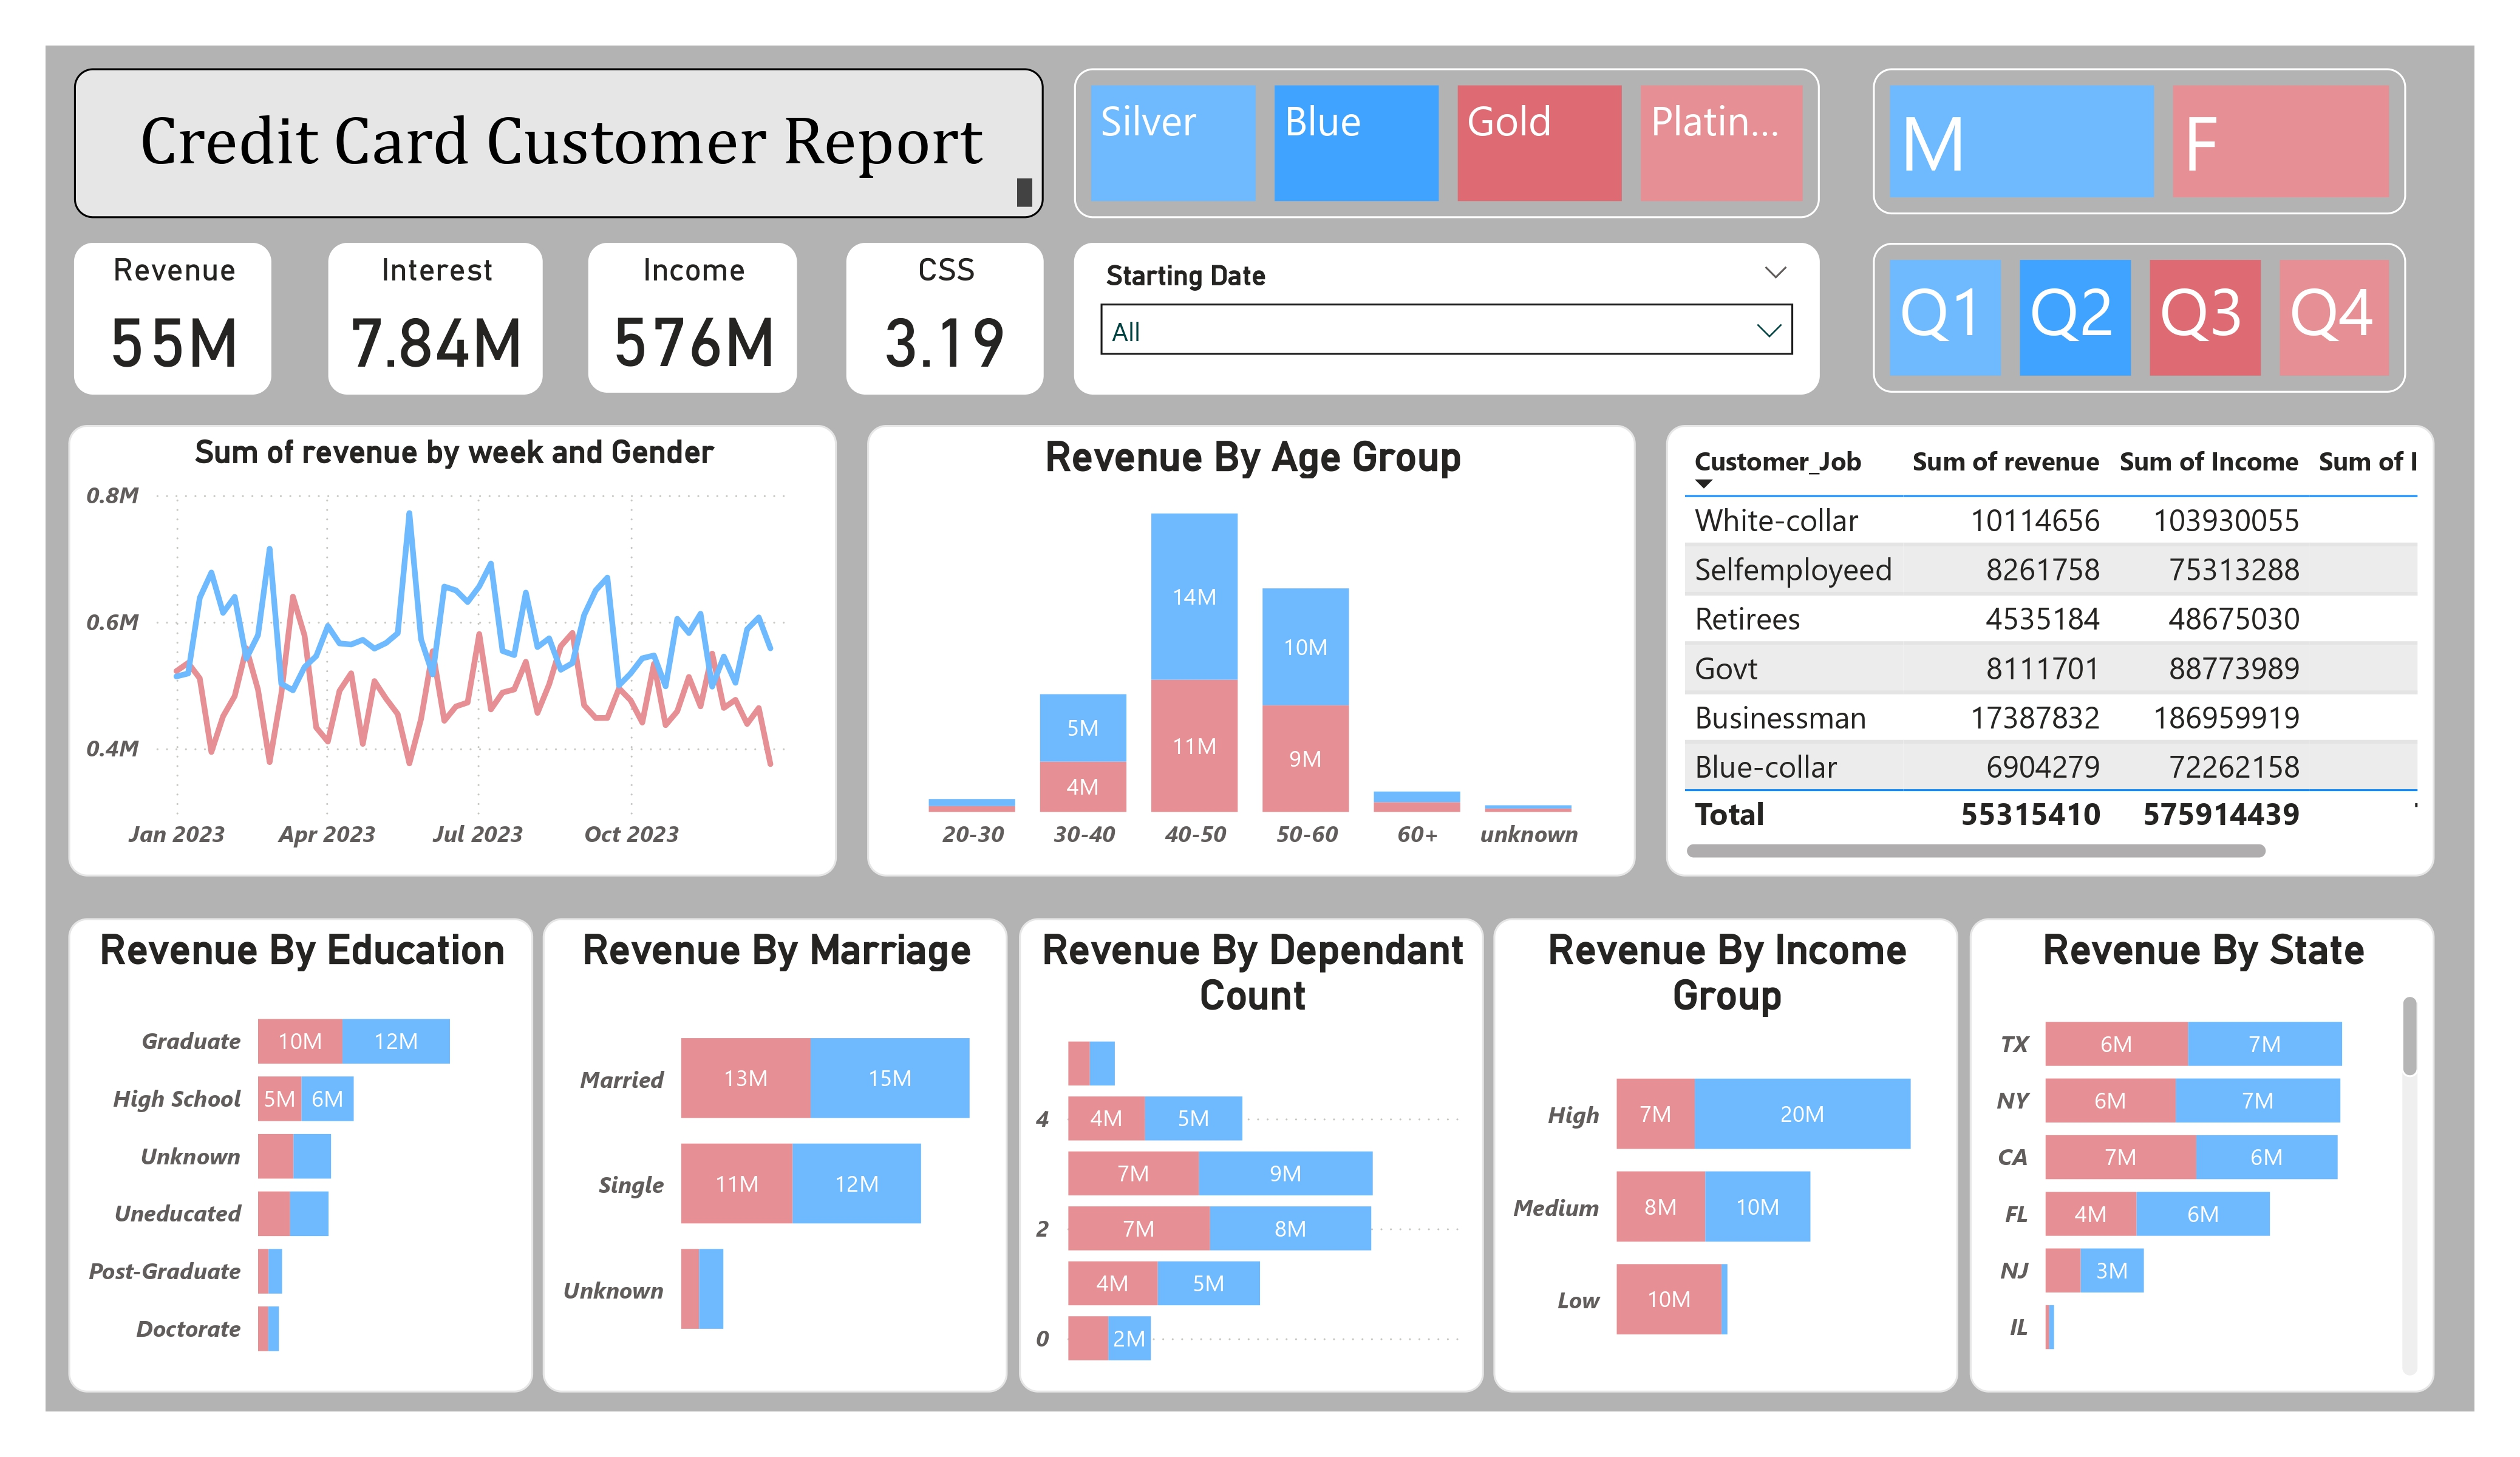

What the dashboard file says about the page in this screenshot:
{"tool":"powerbi","page":{"name":"CC Customer","canvas":[1280,720],"ordinal":2},"visuals":[{"type":"barChart","title":"Revenue By Income Group","fields":{"Y":["Sum(credit_card.revenue)"],"Category":["customer.IncomeGroup"],"Series":["customer.Gender"]},"box":[763.4,459.6,245,250.5],"z":0},{"type":"tableEx","fields":{"Values":["customer.Customer_Job","Sum(credit_card.revenue)","Sum(customer.Income)","Sum(credit_card.Interest_Earned)"]},"box":[854,199.8,405,238.5],"z":1000},{"type":"card","title":"Revenue","fields":{"Values":["Sum(credit_card.revenue)"]},"box":[14.7,103.9,103.9,79.9],"z":2000},{"type":"card","title":"Interest","fields":{"Values":["Sum(credit_card.Interest_Earned)"]},"box":[149.2,103.9,113.2,79.9],"z":3000},{"type":"card","title":"Income","fields":{"Values":["Sum(customer.Income)"]},"box":[286.4,103.9,109.2,78.6],"z":4000},{"type":"card","title":"CSS","fields":{"Values":["Avg(customer.Cust_Satisfaction_Score)"]},"box":[422.3,103.9,103.9,79.9],"z":5000},{"type":"slicer","fields":{"Values":["credit_card.Week_Start_Date"]},"box":[542.2,103.9,393,79.9],"z":6000},{"type":"treemap","fields":{"Group":["credit_card.Qtr"],"Values":["Count(credit_card.revenue)"]},"box":[963.2,103.9,281.1,78.6],"z":7000},{"type":"treemap","fields":{"Values":["Sum(credit_card.revenue)"],"Group":["customer.Gender"]},"box":[965.1,11.8,281.1,77.3],"z":8000},{"type":"treemap","fields":{"Values":["Avg(credit_card.Client_Num)"],"Group":["credit_card.Card_Category"]},"box":[542.2,12,393,78.6],"z":9000},{"type":"textbox","title":"Credit Card Customer Report","box":[14.7,12,511.6,78.6],"z":10000},{"type":"lineChart","title":"Sum of revenue by week and Gender","fields":{"Y":["Sum(credit_card.revenue)"],"Series":["customer.Gender"],"Category":["credit_card.Week_Start_Date.Variation.Date Hierarchy.Year","credit_card.Week_Start_Date.Variation.Date Hierarchy.Month","credit_card.Week_Start_Date.Variation.Date Hierarchy.Day"]},"box":[12,199.8,405,238.5],"z":10001},{"type":"barChart","title":"Revenue By Marriage","fields":{"Y":["Sum(credit_card.revenue)"],"Category":["customer.Marital_Status"],"Series":["customer.Gender"]},"box":[262.4,459.6,245,250.5],"z":10002},{"type":"barChart","title":"Revenue By Education","fields":{"Y":["Sum(credit_card.revenue)"],"Category":["customer.Education_Level"],"Series":["customer.Gender"]},"box":[12,459.6,245,250.5],"z":10003},{"type":"barChart","title":"Revenue By Dependant Count","fields":{"Y":["Sum(credit_card.revenue)"],"Category":["customer.Dependent_Count"],"Series":["customer.Gender"]},"box":[512.9,459.6,245,250.5],"z":10004},{"type":"barChart","title":"Revenue By State","fields":{"Y":["Sum(credit_card.revenue)"],"Category":["customer.state_cd"],"Series":["customer.Gender"]},"box":[1013.8,459.6,245,250.5],"z":10006},{"type":"columnChart","title":"Revenue By Age Group","fields":{"Category":["customer.AgeGroup"],"Y":["Sum(credit_card.revenue)"],"Series":["customer.Gender"]},"box":[433,199.8,405,238.5],"z":10007}]}

Visuals, with their boxes in screenshot pixels (x1, y1, x2, y2):
"Revenue By Income Group" barChart: <box>1494,917,1959,1393</box>
tableEx - customer.Customer_Job x Sum(credit_card.revenue): <box>1666,424,2434,877</box>
"Revenue" card: <box>73,243,271,394</box>
"Interest" card: <box>329,243,543,394</box>
"Income" card: <box>589,243,796,392</box>
"CSS" card: <box>847,243,1044,394</box>
slicer - credit_card.Week_Start_Date: <box>1074,243,1820,394</box>
treemap - credit_card.Qtr x Count(credit_card.revenue): <box>1873,243,2406,392</box>
treemap - Sum(credit_card.revenue) x customer.Gender: <box>1877,68,2410,214</box>
treemap - Avg(credit_card.Client_Num) x credit_card.Card_Category: <box>1074,68,1820,217</box>
"Credit Card Customer Report" textbox: <box>73,68,1044,217</box>
"Sum of revenue by week and Gender" lineChart: <box>68,424,837,877</box>
"Revenue By Marriage" barChart: <box>543,917,1009,1393</box>
"Revenue By Education" barChart: <box>68,917,533,1393</box>
"Revenue By Dependant Count" barChart: <box>1019,917,1483,1393</box>
"Revenue By State" barChart: <box>1969,917,2434,1393</box>
"Revenue By Age Group" columnChart: <box>867,424,1636,877</box>
